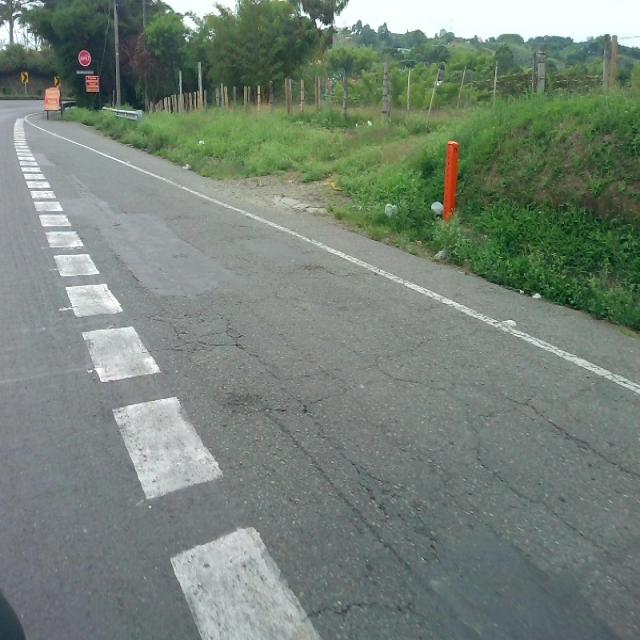DITCH: (52, 37, 638, 638), (4, 107, 638, 638)
